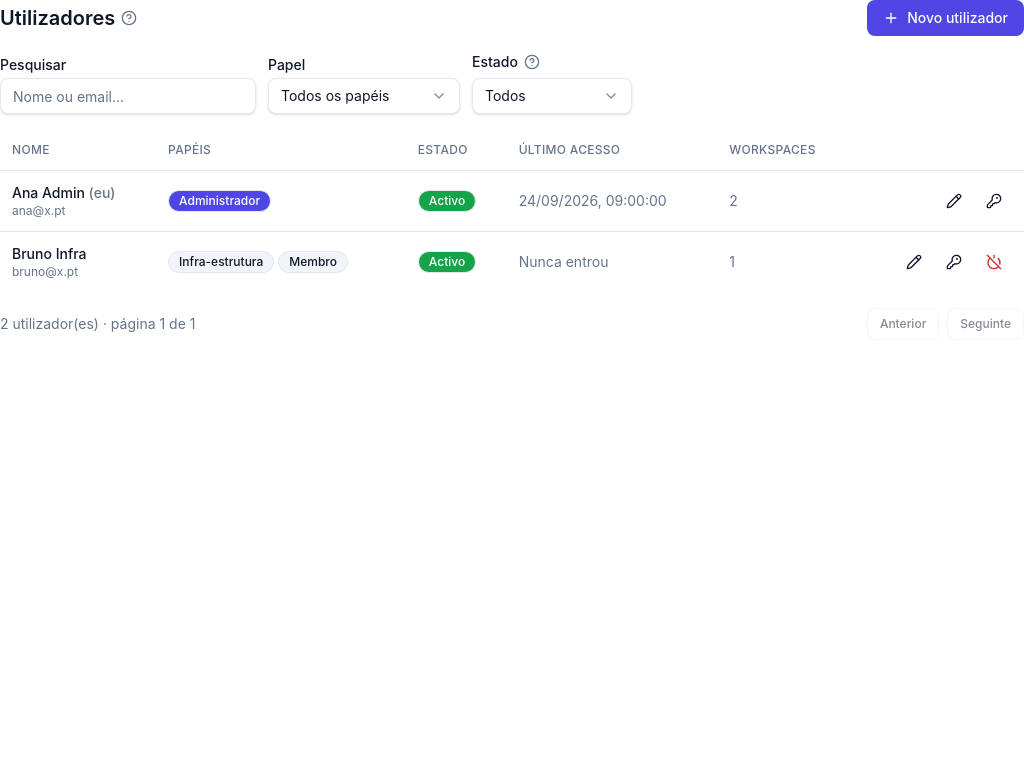
Gestão de utilizadores › ao editar-se a si próprio, não pode retirar o papel de administrador
Click the button named "Editar Ana Admin" at coordinates (954, 200), box x1=936 y1=182 x2=972 y2=218
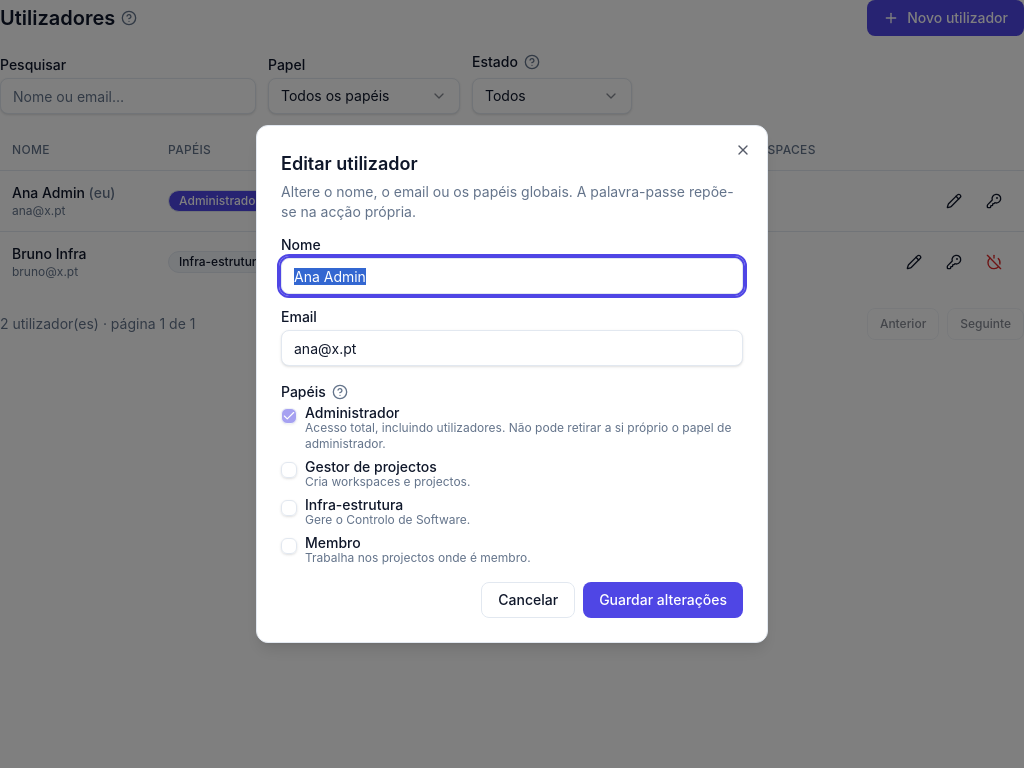
Check: the checkbox named "Administrador" next to "Acesso total, incluindo utilizadores." is checked, box x1=281 y1=408 x2=297 y2=424
Check: the checkbox named "Administrador" next to "Acesso total, incluindo utilizadores." is disabled, box x1=281 y1=408 x2=297 y2=424
Check: the text "não pode retirar a si próprio o papel de administrador" is shown, box x1=305 y1=420 x2=731 y2=451
